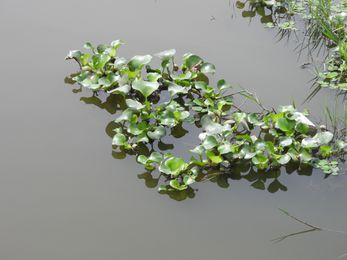water_hyacinth: (69, 40, 344, 194)
